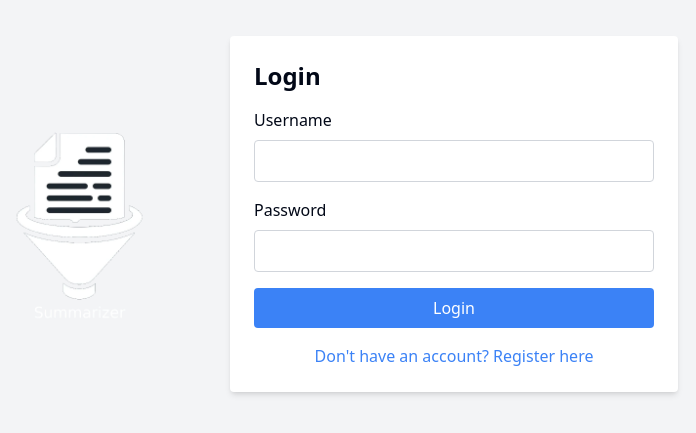
Login Page › shows error message on failed login
This screenshot has width=696, height=433.
Type "wrongUser" into the field labelled "Username" at (454,161), box [254,140,654,182]
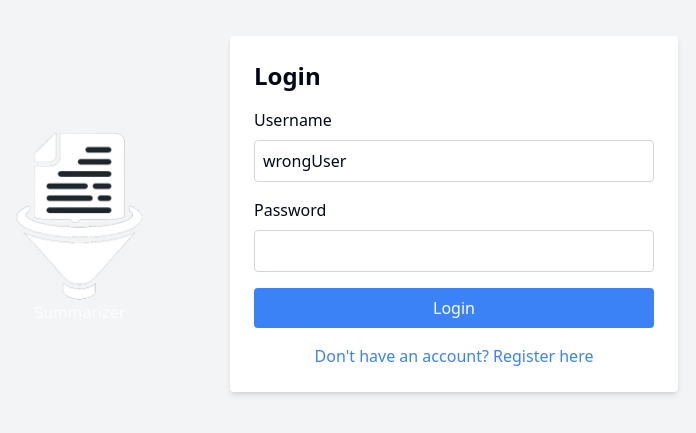
Type "wrongPass" into the password field labelled "Password" at (454,251), box [254,230,654,272]
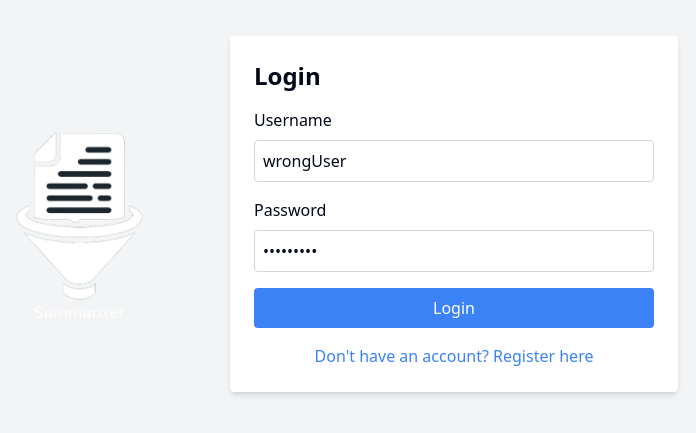
Click the button "Login" at (454,308), box [254,288,654,328]
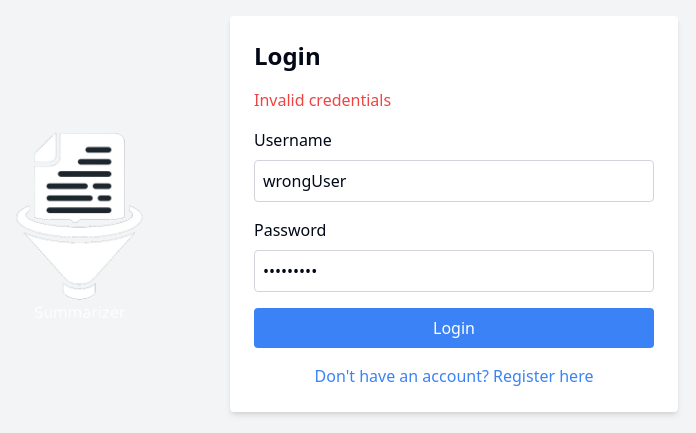
Expected: the text "Invalid credentials" is shown, [254,89,391,111]
